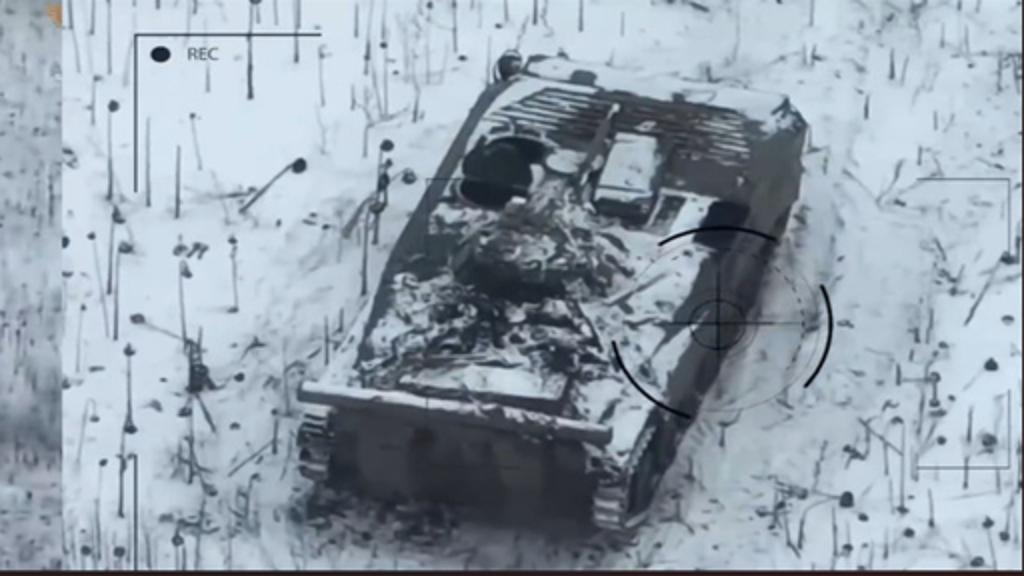APC-IFV: (276, 34, 814, 534)
